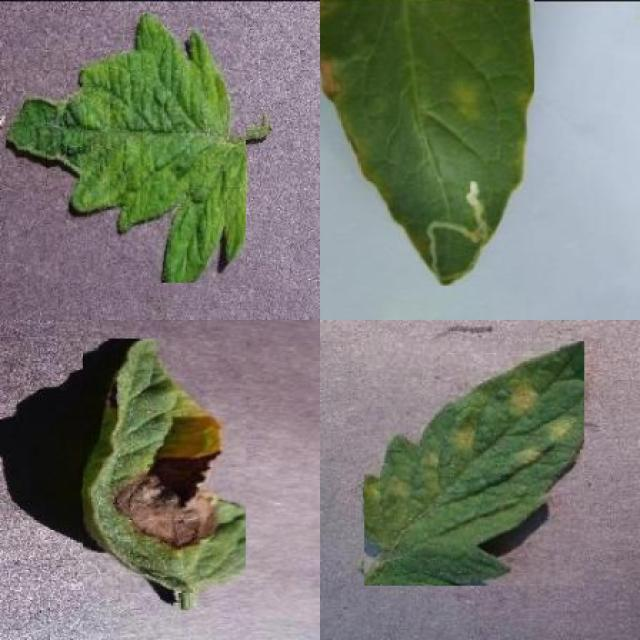Early Blight: (84, 338, 245, 593)
Leaf Miner: (320, 0, 534, 286)
Leaf Mold: (364, 340, 584, 586)
Mosaic Virus: (7, 12, 246, 282)
